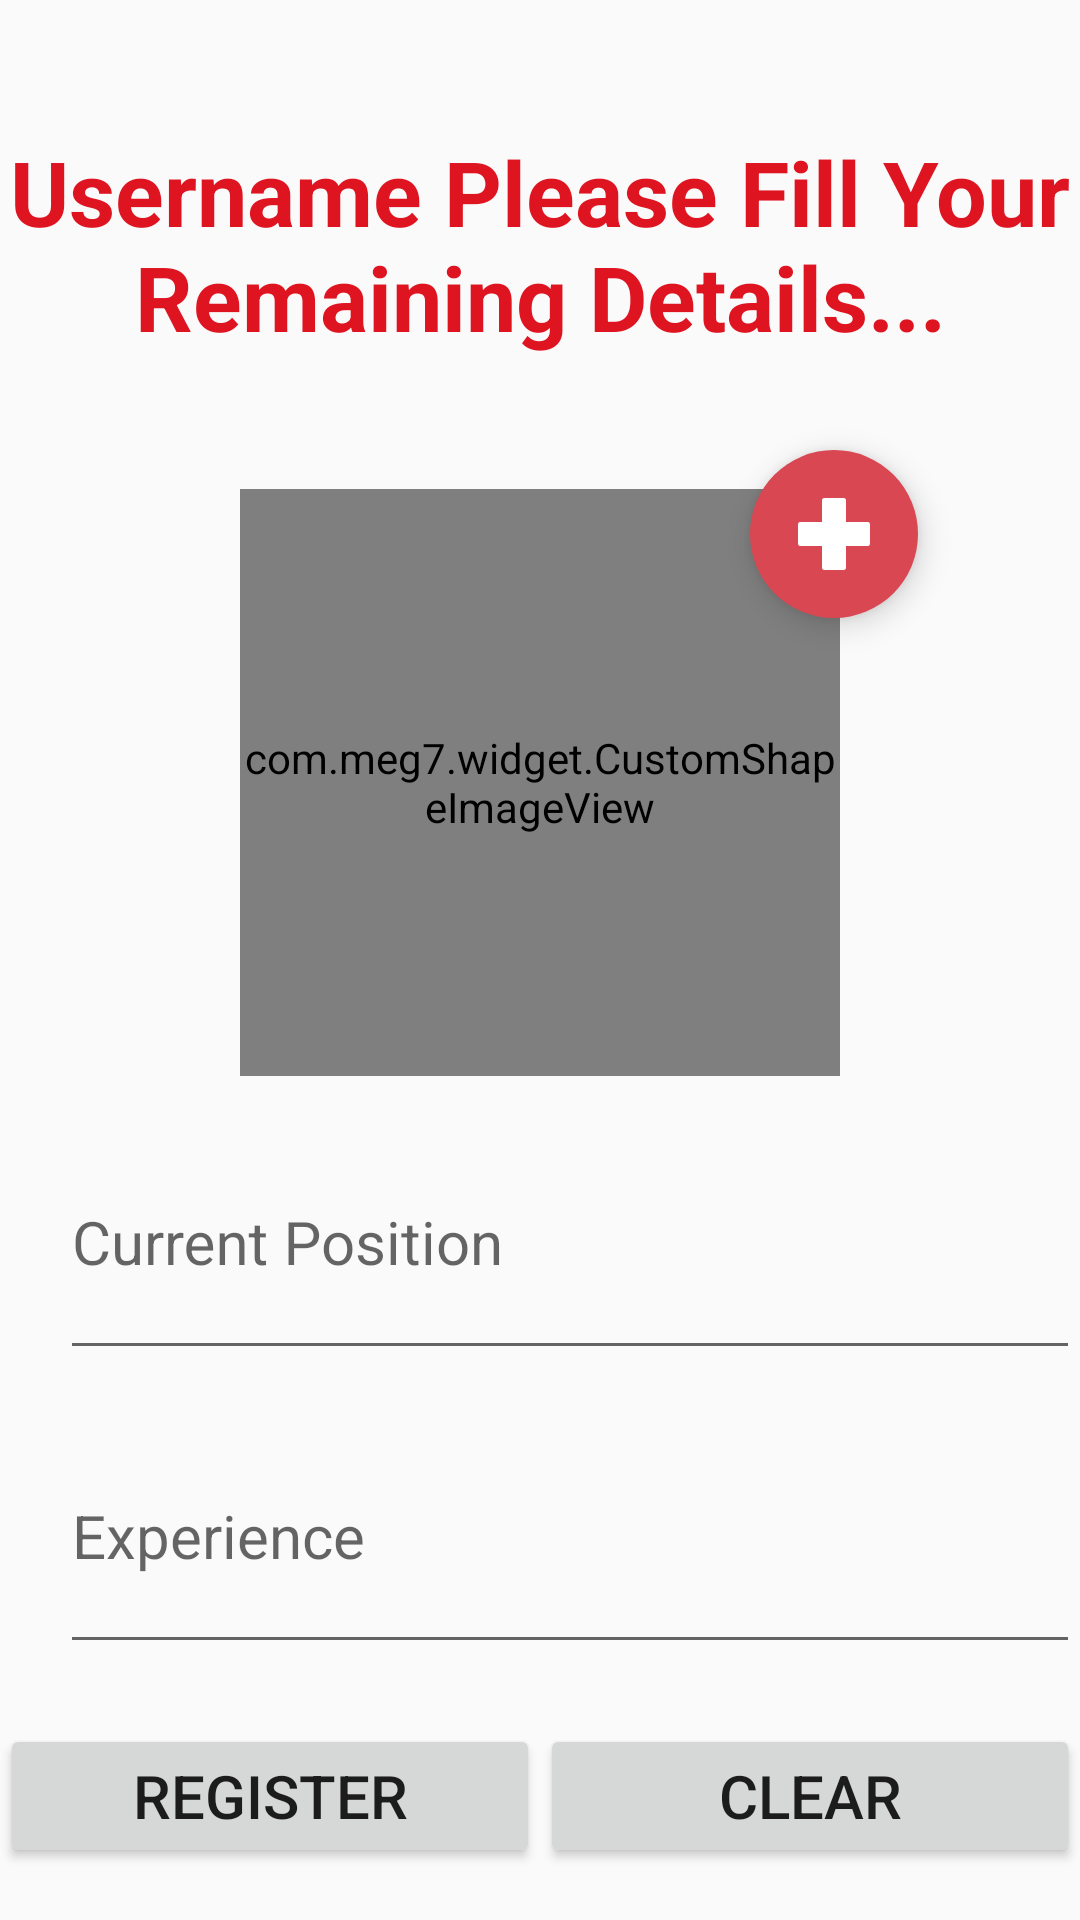

Point at icon controls on the screen. Image size 1080px x 1920px, points as point (x, y).
plus: point (834, 534)
